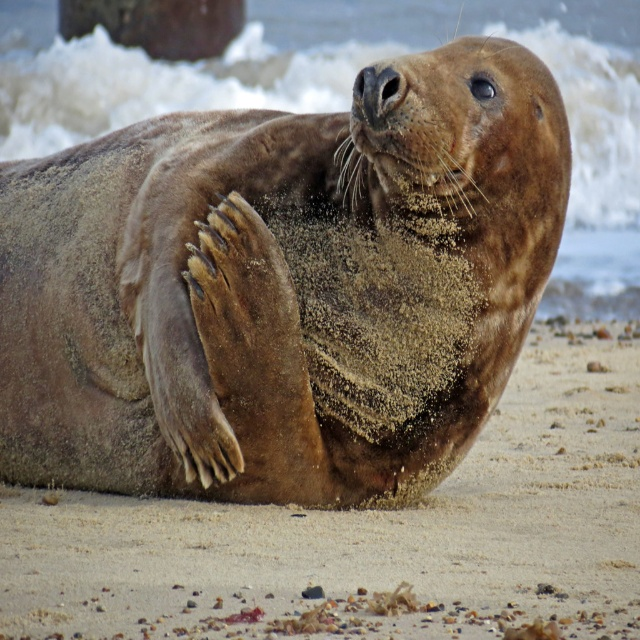Harbor seal: (0, 1, 572, 497)
